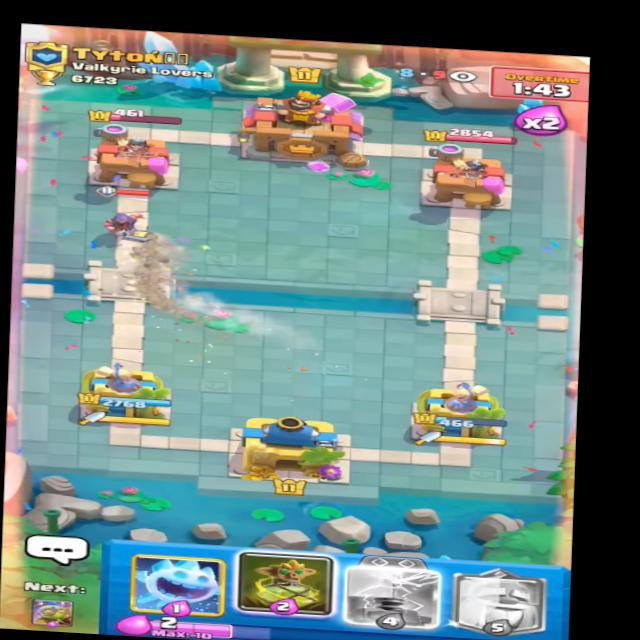evo-wizard: (85, 183, 166, 235)
